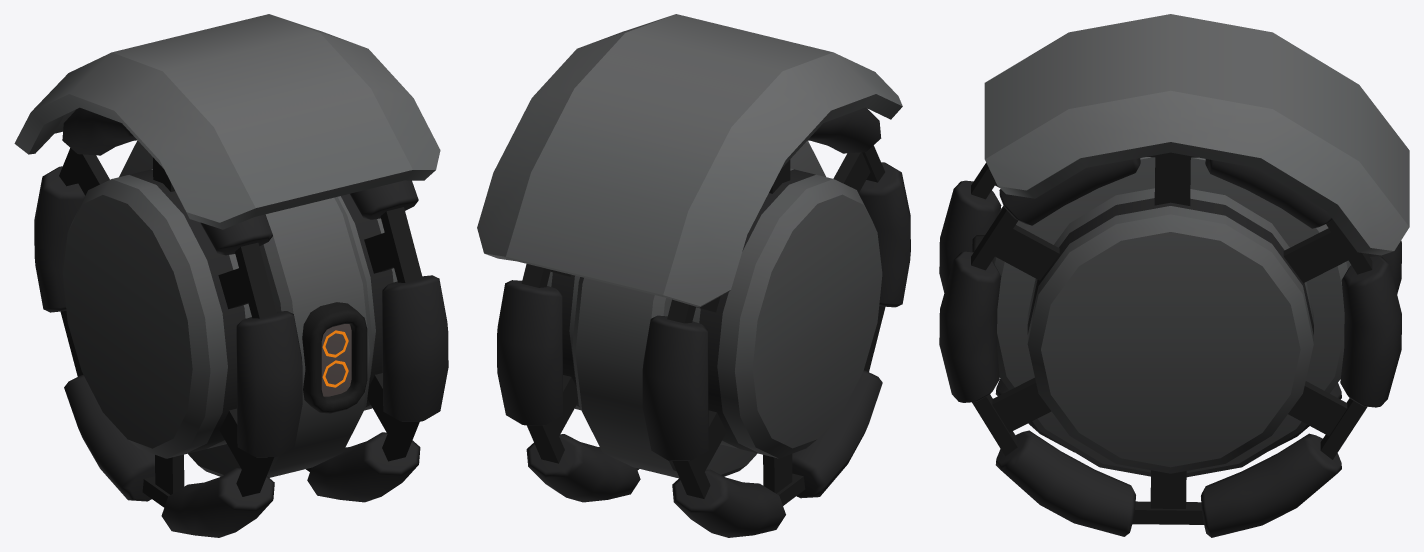
File: Delivery_drone_007.glb
The picture shows the model from 3 angles, left to right: view 1: azimuth 30°, elevation 25°; view 2: azimuth 150°, elevation 25°; view 3: azimuth 270°, elevation 25°; orthographic projection.
Visible parts, largest first — view 1: Delivery_drone_007; view 2: Delivery_drone_007; view 3: Delivery_drone_007.
Boxes of the visible parts, box(x1,y1,x2,y2) form: Delivery_drone_007: box(14, 14, 448, 537); Delivery_drone_007: box(477, 14, 910, 537); Delivery_drone_007: box(939, 14, 1409, 537).
Bounding box in the file's own units: 0.4771 × 0.8017 × 0.7644.
Materials: 3 (2 with a texture image).
